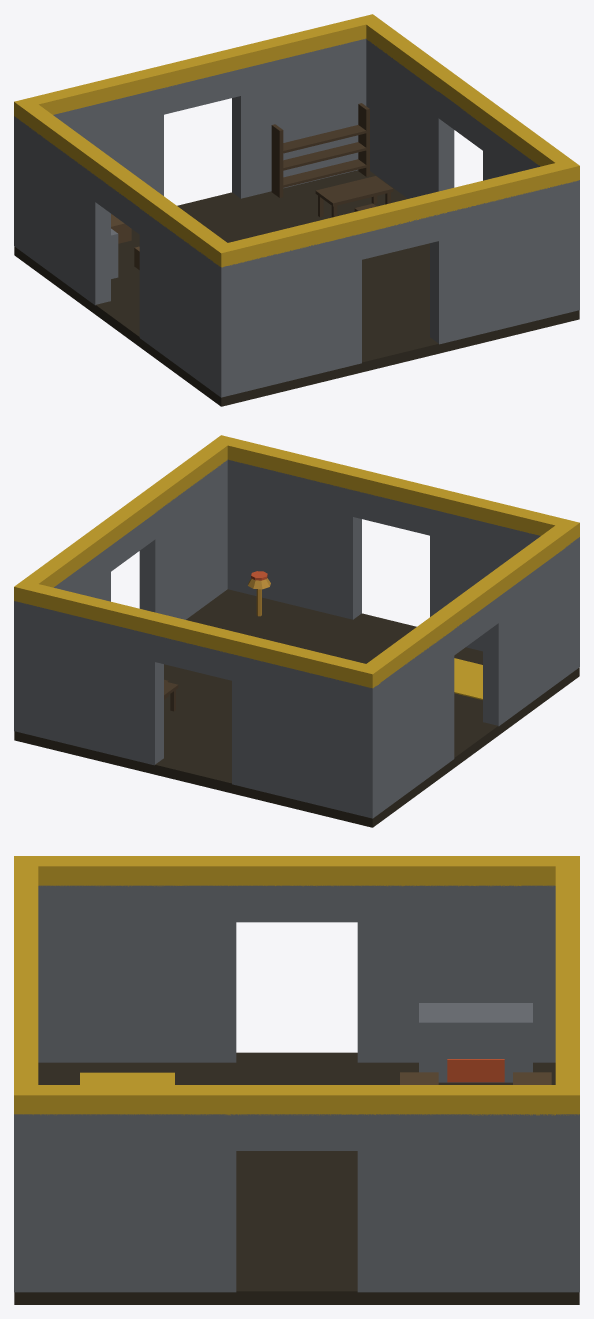
Rendered from LordsSolar.fbx.
3 renders of one model, top to bottom at view 1: azimuth 30°, elevation 25°; view 2: azimuth 150°, elevation 25°; view 3: azimuth 270°, elevation 25°, orthographic. The views are drawn at different scales.
Parts seen in each view (by area): view 1: LordsSolar; view 2: LordsSolar; view 3: LordsSolar.
Boxes of the visible parts, box(x1,y1,x2,y2) form: LordsSolar: box(14, 14, 579, 406); LordsSolar: box(14, 435, 579, 827); LordsSolar: box(14, 856, 579, 1304).
Bounding box in the file's own units: 1202 × 492 × 1202.
7 materials, 7 textured.
